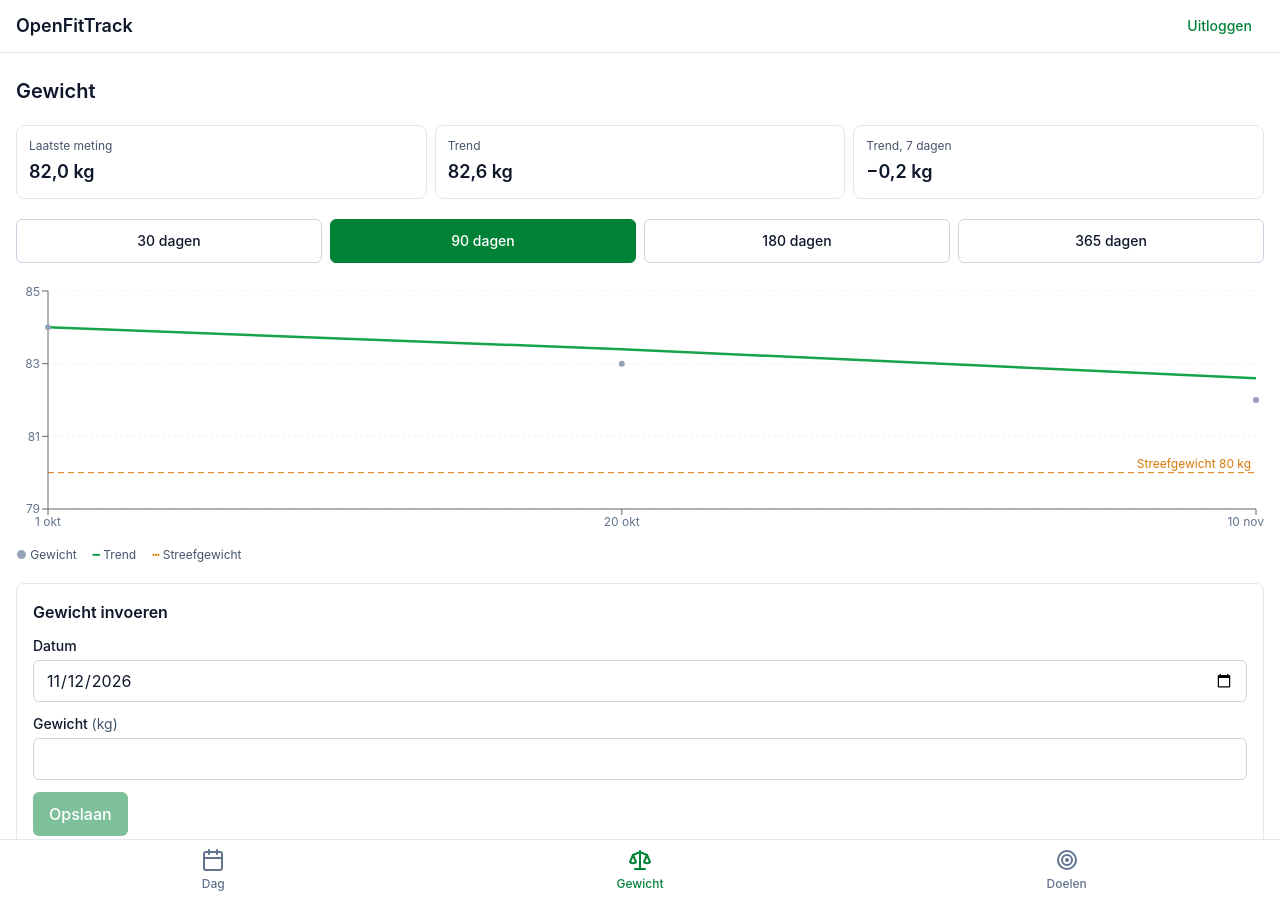
Test: logging weight › can log an earlier day, but not a day in the future
Type "2026-11-10" into the date field labelled "Datum" at (640, 681), box [33,660,1247,702]
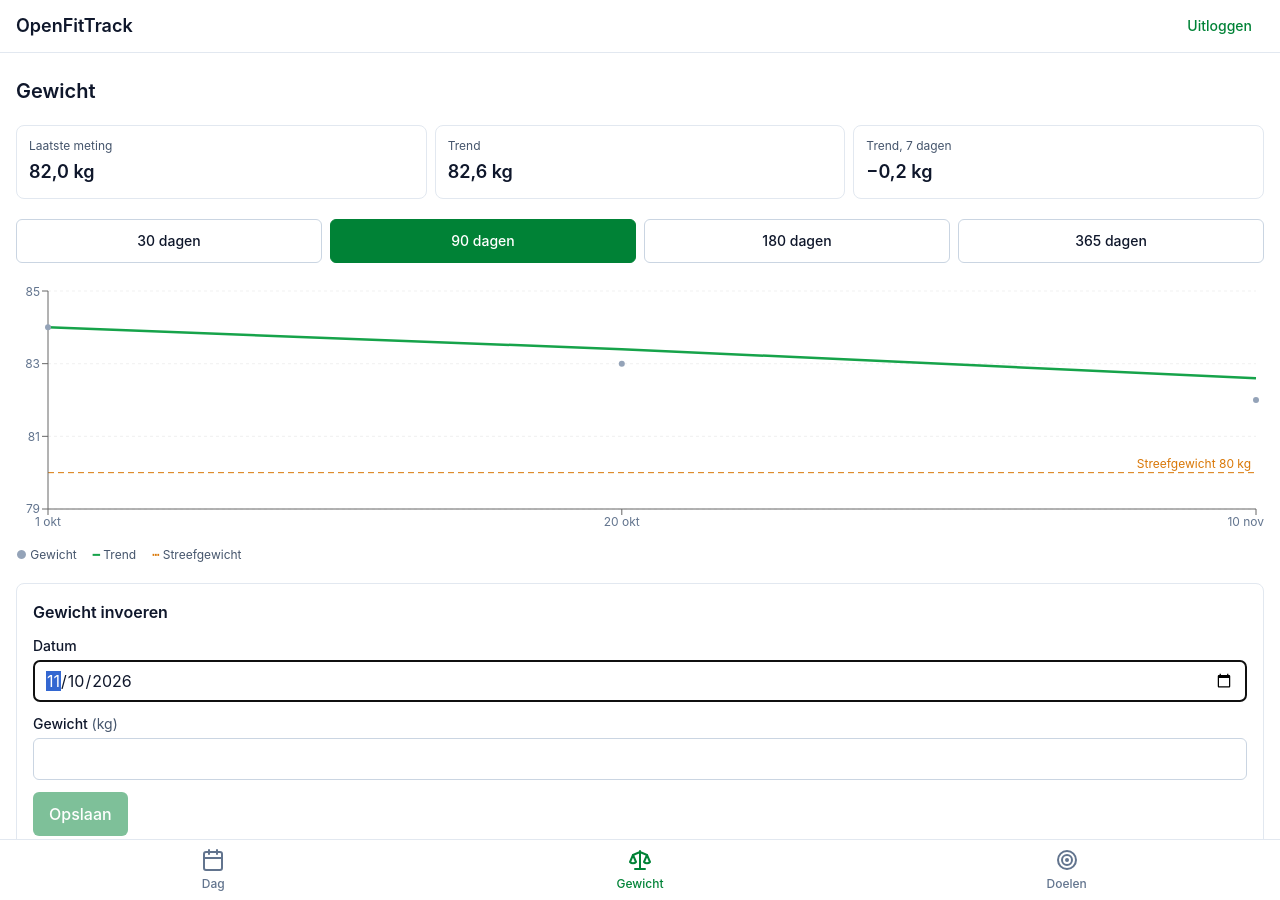
Type "81" into the field labelled "Gewicht (kg)" at (640, 759), box [33,738,1247,780]
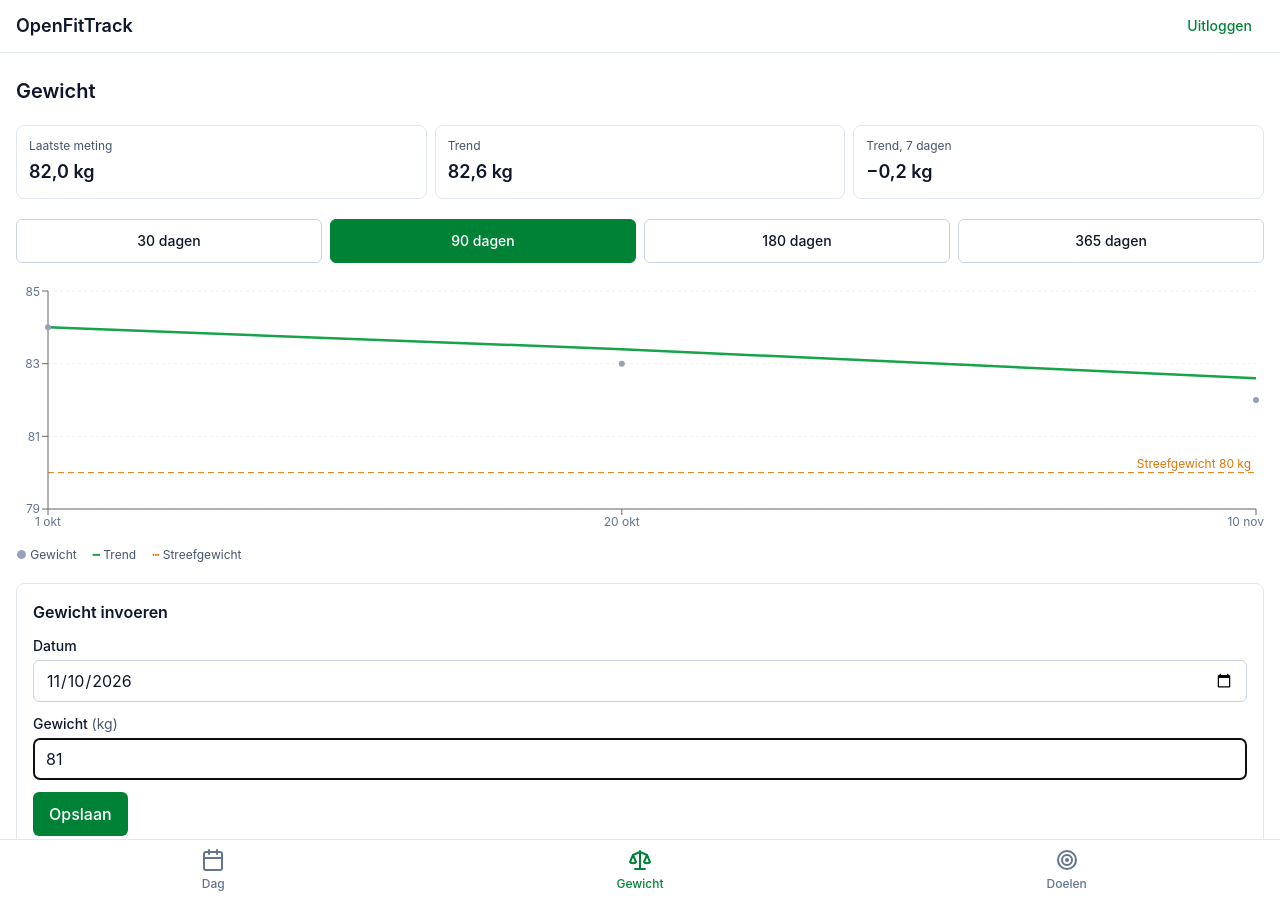
Click the button "Opslaan" at (80, 814), box [33,792,128,836]
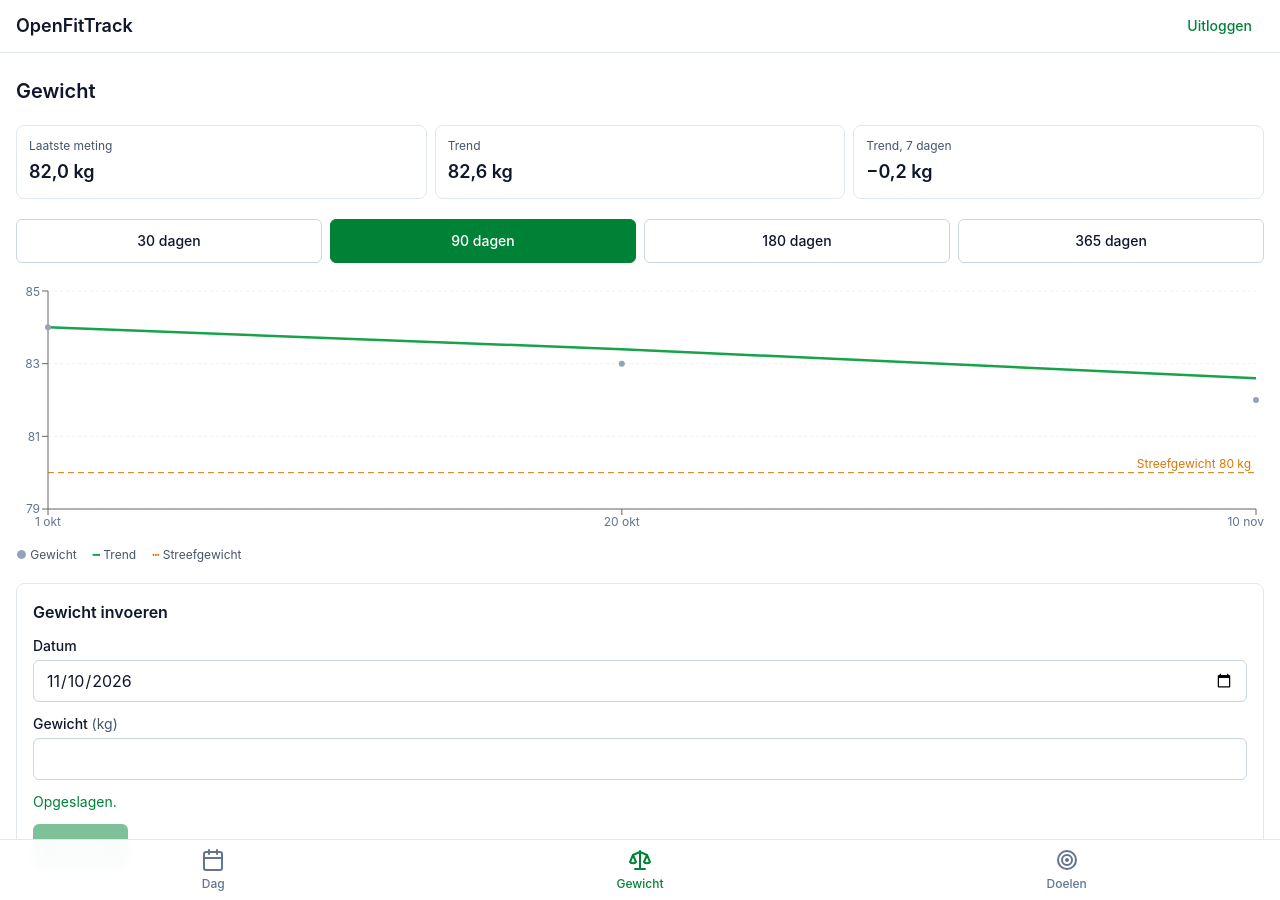
Result: the message "Opgeslagen." is shown at [33,793,117,810]
